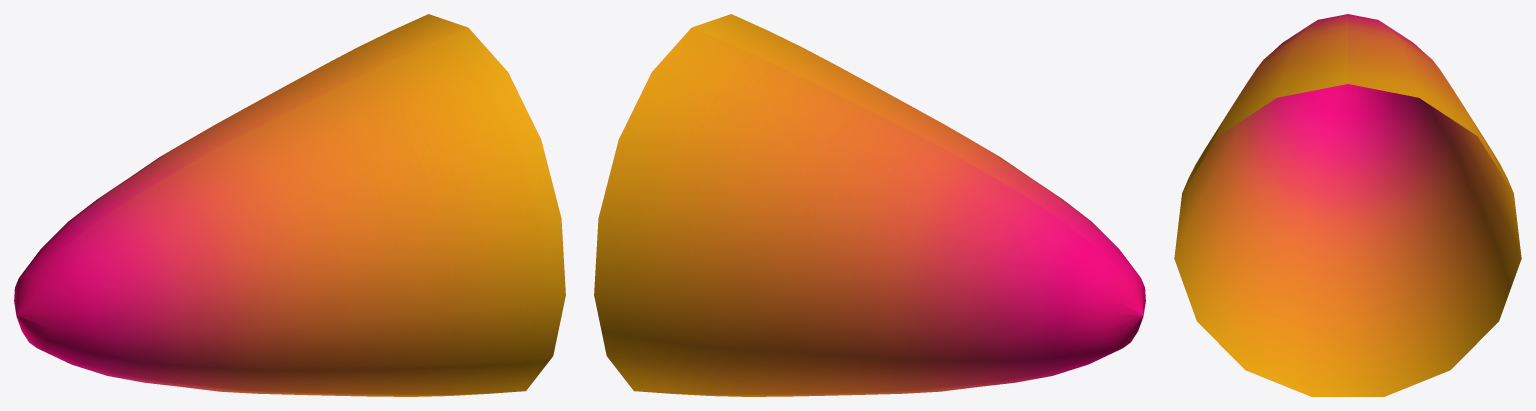
Rendered from superficie.fbx.
3 views of the same model, side by side, from view 1: azimuth 30°, elevation 25°; view 2: azimuth 150°, elevation 25°; view 3: azimuth 270°, elevation 25° (orthographic). The views are drawn at different scales.
Visible parts, largest first — view 1: y_raiz_x_demo:superficie; view 2: y_raiz_x_demo:superficie; view 3: y_raiz_x_demo:superficie.
Boxes of the visible parts, x1,y1,x2,y2 form: y_raiz_x_demo:superficie: (14,14,565,396); y_raiz_x_demo:superficie: (594,14,1145,396); y_raiz_x_demo:superficie: (1174,14,1521,396).
Bounding box in the file's own units: 13.35 × 9.92 × 9.98.
